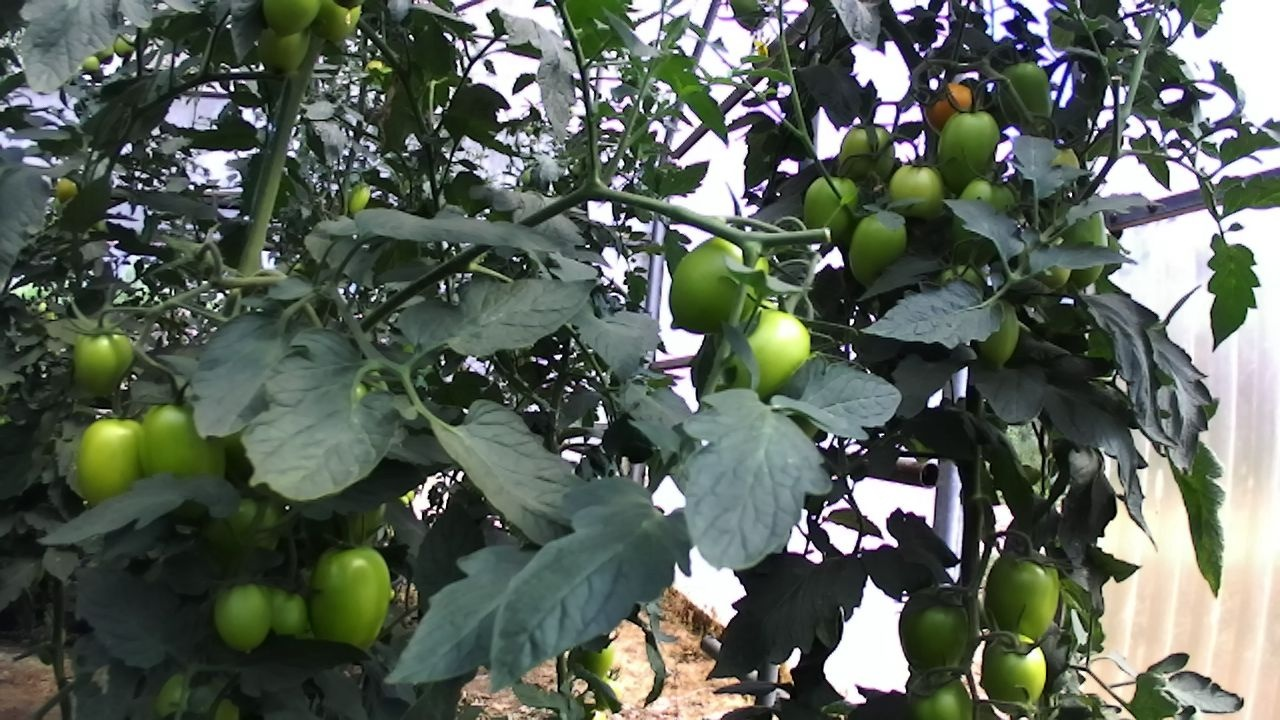tomato: (120, 389, 254, 533), (684, 291, 828, 418), (651, 217, 790, 348), (300, 527, 407, 670), (63, 395, 160, 530), (980, 529, 1070, 666), (888, 578, 989, 693), (964, 620, 1064, 720), (926, 95, 1016, 205), (55, 311, 146, 409), (785, 162, 879, 253), (987, 42, 1066, 149), (836, 197, 918, 299), (828, 107, 911, 207), (876, 148, 959, 241), (206, 572, 286, 667), (961, 294, 1036, 384), (892, 660, 998, 720), (912, 68, 993, 143), (248, 573, 325, 651), (244, 0, 336, 54), (249, 16, 317, 87), (300, 0, 376, 57), (572, 620, 622, 688), (338, 172, 379, 223), (48, 171, 82, 210), (109, 30, 141, 61), (78, 52, 104, 76)
